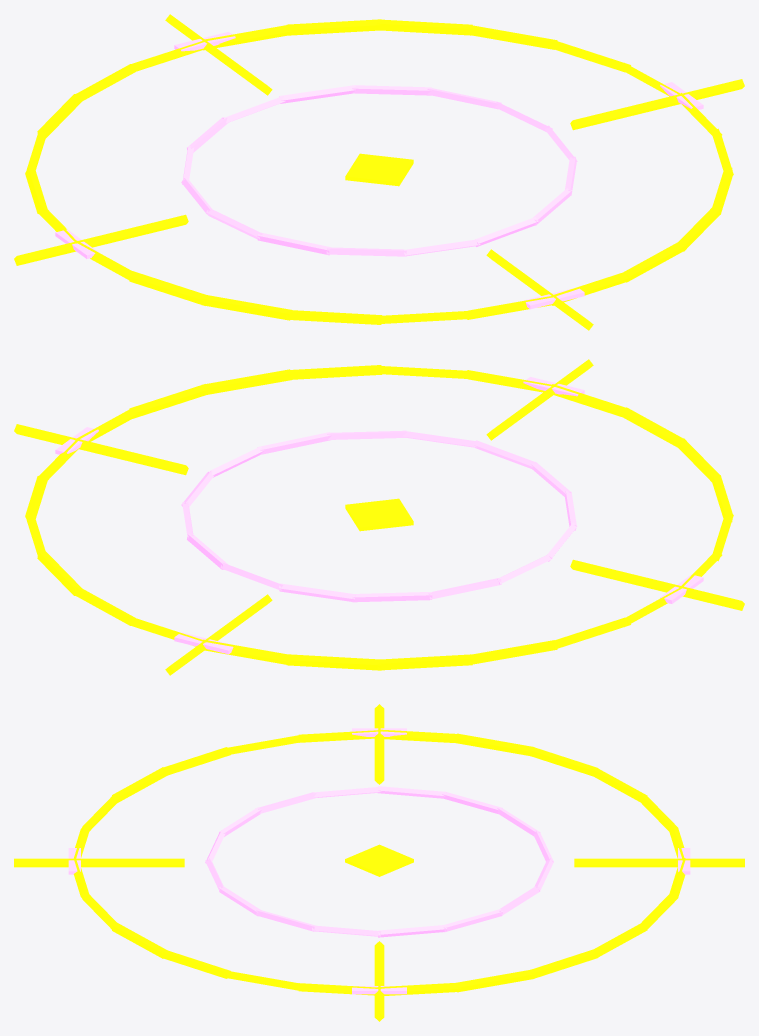
File: FX_TargetMarker.fbx
3 renders of one model, top to bottom at view 1: azimuth 30°, elevation 25°; view 2: azimuth 150°, elevation 25°; view 3: azimuth 270°, elevation 25°, orthographic. The views are drawn at different scales.
Parts seen in each view (by area): view 1: Mark_Outer, Mark_Inner, Mark_Tick0, Mark_Tick2, Mark_Center, Mark_Tick1, Mark_Tick3, Mark_Bracket3; view 2: Mark_Outer, Mark_Inner, Mark_Tick2, Mark_Tick0, Mark_Center, Mark_Tick3, Mark_Tick1, Mark_Bracket1; view 3: Mark_Outer, Mark_Inner, Mark_Tick1, Mark_Tick3, Mark_Center, Mark_Tick0, Mark_Tick2.
Part boxes in pixels (x1=…): Mark_Outer: x1=25, y1=19, x2=733, y2=324; Mark_Inner: x1=181, y1=85, x2=577, y2=256; Mark_Tick0: x1=570, y1=79, x2=744, y2=130; Mark_Tick2: x1=14, y1=214, x2=188, y2=265; Mark_Center: x1=345, y1=153, x2=413, y2=186; Mark_Tick1: x1=165, y1=14, x2=272, y2=95; Mark_Tick3: x1=486, y1=249, x2=593, y2=330; Mark_Bracket3: x1=523, y1=288, x2=584, y2=309; Mark_Outer: x1=25, y1=365, x2=733, y2=670; Mark_Inner: x1=181, y1=430, x2=577, y2=602; Mark_Tick2: x1=570, y1=559, x2=744, y2=610; Mark_Tick0: x1=14, y1=424, x2=188, y2=475; Mark_Center: x1=345, y1=498, x2=413, y2=531; Mark_Tick3: x1=486, y1=359, x2=593, y2=440; Mark_Tick1: x1=165, y1=594, x2=272, y2=675; Mark_Bracket1: x1=174, y1=632, x2=233, y2=654; Mark_Outer: x1=73, y1=729, x2=685, y2=995; Mark_Inner: x1=205, y1=786, x2=553, y2=937; Mark_Tick1: x1=574, y1=858, x2=744, y2=867; Mark_Tick3: x1=14, y1=858, x2=184, y2=867; Mark_Center: x1=345, y1=844, x2=413, y2=876; Mark_Tick0: x1=374, y1=941, x2=384, y2=1021; Mark_Tick2: x1=374, y1=704, x2=384, y2=784.
Bounding box in the file's own units: 1.2 × 0.016 × 1.2.
